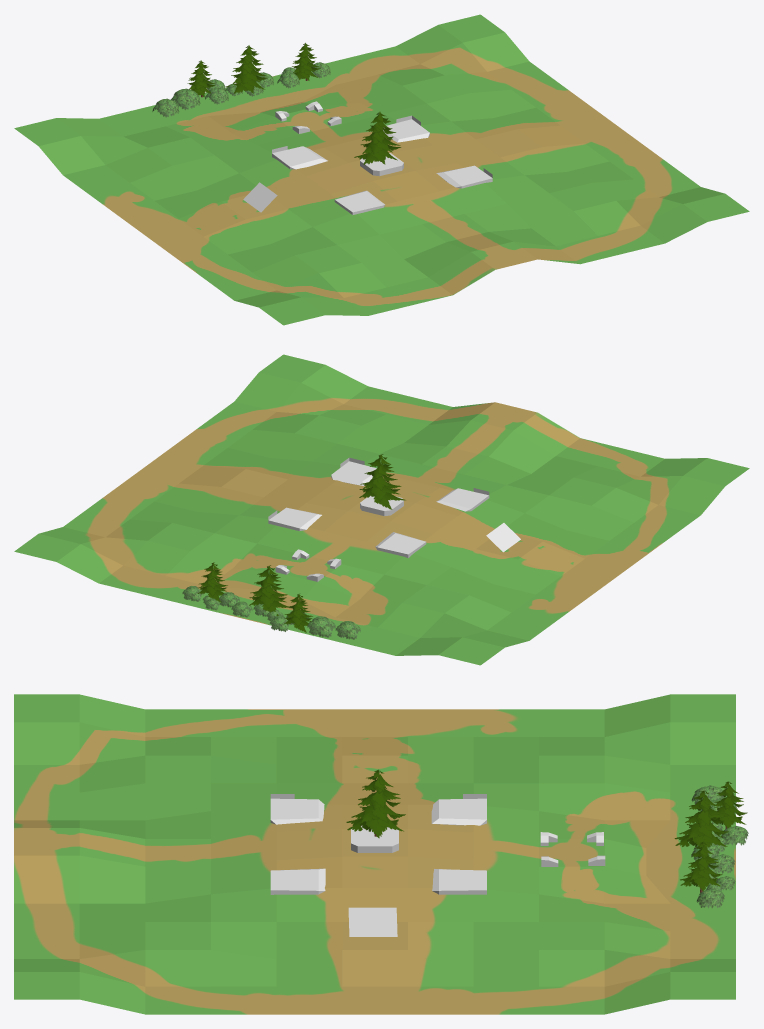
File: TL_map_oldscool.glb
The picture shows the model from 3 angles, top to bottom: view 1: azimuth 30°, elevation 25°; view 2: azimuth 150°, elevation 25°; view 3: azimuth 270°, elevation 25°; orthographic projection. The views are drawn at different scales.
Visible parts, largest first — view 1: Plane, Pine_2, Pine_2.001, Cube.005, Cube.003, Cube.004, Cube.002, Pine_2.003, Cube.001, Plane.003, Pine_2.002; view 2: Plane, Pine_2, Pine_2.001, Cube.004, Cube.002, Cube.003, Cube.005, Pine_2.003, Pine_2.002, Cube.001, Plane.003; view 3: Plane, Pine_2, Pine_2.001, Cube.005, Plane.008, Cube.002, Cube.003, Cube.004, Cube.001, Pine_2.003, Pine_2.002.
Boxes of the visible parts, x1=… form: Plane: x1=14, y1=14, x2=749, y2=325; Pine_2: x1=354, y1=111, x2=401, y2=164; Pine_2.001: x1=225, y1=45, x2=267, y2=94; Cube.005: x1=272, y1=146, x2=327, y2=169; Cube.003: x1=436, y1=165, x2=492, y2=188; Cube.004: x1=383, y1=115, x2=429, y2=142; Cube.002: x1=334, y1=190, x2=385, y2=214; Pine_2.003: x1=292, y1=42, x2=320, y2=80; Cube.001: x1=360, y1=153, x2=403, y2=176; Plane.003: x1=243, y1=182, x2=277, y2=212; Pine_2.002: x1=187, y1=60, x2=214, y2=97; Plane: x1=14, y1=354, x2=749, y2=665; Pine_2: x1=359, y1=454, x2=405, y2=509; Pine_2.001: x1=249, y1=565, x2=289, y2=615; Cube.004: x1=268, y1=507, x2=321, y2=531; Cube.002: x1=436, y1=488, x2=489, y2=511; Cube.003: x1=331, y1=457, x2=376, y2=485; Cube.005: x1=375, y1=532, x2=426, y2=558; Pine_2.003: x1=197, y1=562, x2=227, y2=602; Pine_2.002: x1=284, y1=593, x2=312, y2=632; Cube.001: x1=360, y1=495, x2=403, y2=516; Plane.003: x1=486, y1=523, x2=520, y2=552; Plane: x1=14, y1=694, x2=735, y2=1014; Pine_2: x1=346, y1=769, x2=405, y2=838; Pine_2.001: x1=674, y1=790, x2=728, y2=848; Cube.005: x1=431, y1=794, x2=486, y2=825; Plane.008: x1=348, y1=907, x2=397, y2=936; Cube.002: x1=270, y1=794, x2=324, y2=824; Cube.003: x1=270, y1=868, x2=325, y2=894; Cube.004: x1=432, y1=869, x2=486, y2=894; Cube.001: x1=351, y1=825, x2=398, y2=852; Pine_2.003: x1=680, y1=842, x2=722, y2=892; Pine_2.002: x1=711, y1=781, x2=747, y2=828.
Size of the model in its own units: 30 by 5.18 by 30.58.
4 materials, 4 textured.
